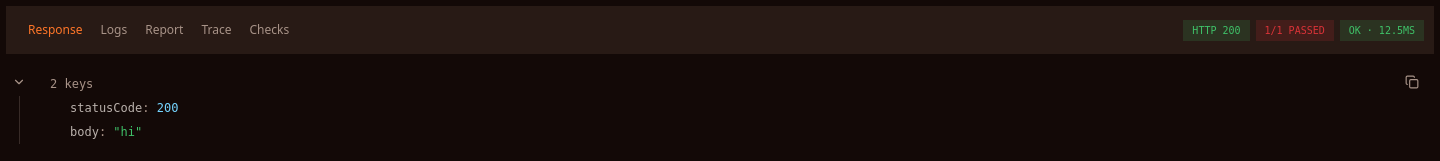
Scenario: treats an empty-message script error as an error rather than a pass
Click the tab "Checks" at (269, 30), box [240,16,298,44]
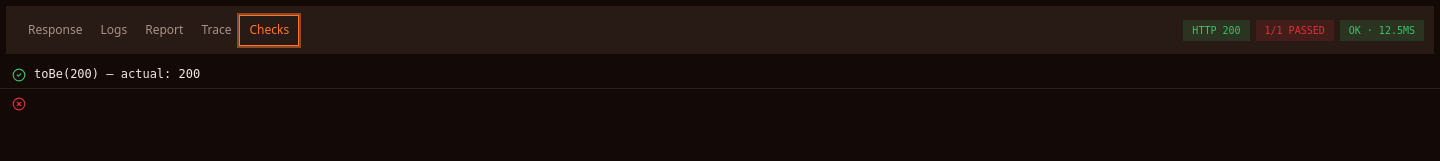
expect the picture named "Script error" is shown: met, box [12,97,26,111]
